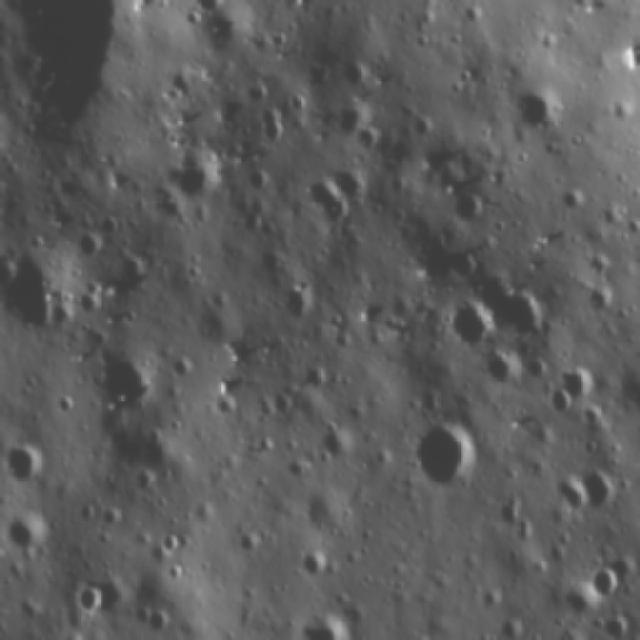crater: (409, 416, 485, 496), (90, 340, 156, 414), (487, 281, 553, 345), (436, 295, 502, 351), (417, 234, 483, 288), (177, 147, 231, 211), (200, 5, 266, 57), (303, 174, 348, 240), (511, 84, 562, 134), (3, 516, 55, 561), (4, 441, 47, 490), (545, 470, 587, 519), (481, 351, 530, 392), (579, 470, 621, 513), (450, 186, 488, 232), (316, 423, 355, 466), (561, 362, 602, 402), (132, 602, 174, 636), (73, 583, 110, 620), (588, 568, 626, 604), (592, 609, 633, 640), (68, 228, 104, 262), (298, 546, 330, 583), (132, 473, 170, 504), (155, 527, 187, 561), (96, 210, 129, 236), (237, 530, 260, 556)
